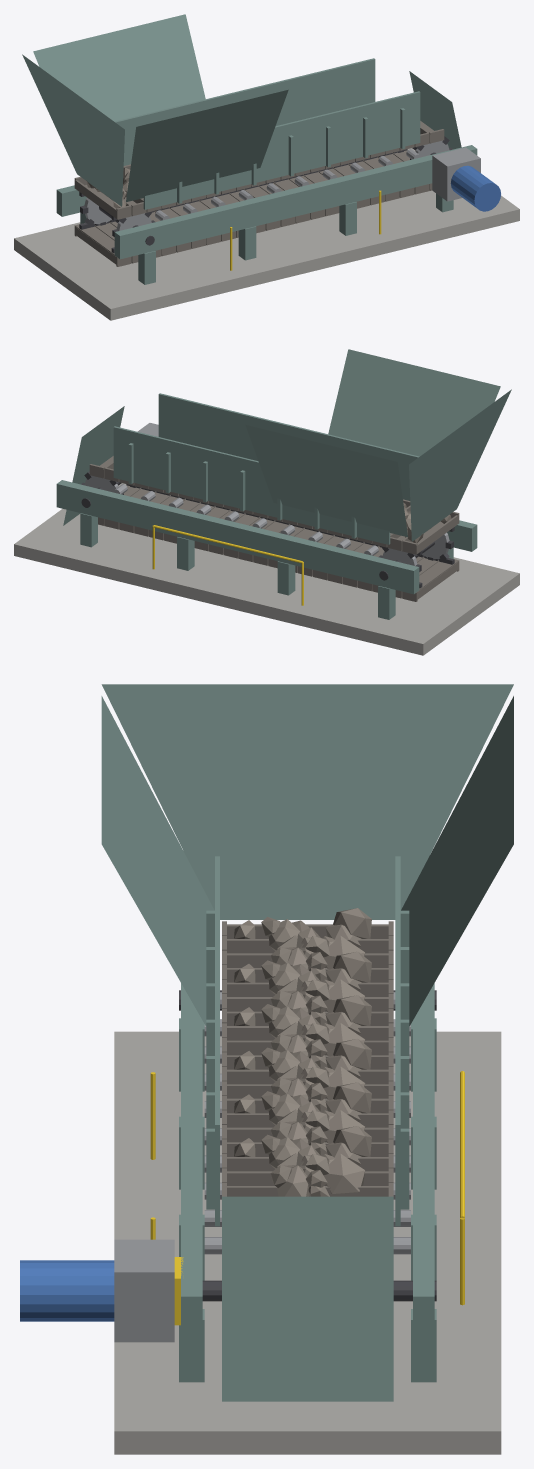
Rendered from EQ_ApronFeeder_8m.glb.
3 renders of one model, top to bottom at view 1: azimuth 30°, elevation 25°; view 2: azimuth 150°, elevation 25°; view 3: azimuth 270°, elevation 25°, orthographic. The views are drawn at different scales.
Parts seen in each view (by area): view 1: AF_Frame, AF_Pans_Bottom, AF_Pans_Top, AF_Sprocket_Tail, AF_Sprocket_Head; view 2: AF_Frame, AF_Pans_Bottom, AF_Pans_Top, AF_Sprocket_Tail, AF_Sprocket_Head; view 3: AF_Frame, AF_Ore, AF_Pans_Top, AF_Sprocket_Head.
Boxes of the visible parts, x1=… form: AF_Frame: x1=14, y1=14, x2=519, y2=320; AF_Pans_Bottom: x1=74, y1=149, x2=432, y2=266; AF_Pans_Top: x1=74, y1=121, x2=444, y2=220; AF_Sprocket_Tail: x1=80, y1=197, x2=155, y2=245; AF_Sprocket_Head: x1=398, y1=136, x2=452, y2=159; AF_Frame: x1=14, y1=349, x2=519, y2=655; AF_Pans_Bottom: x1=98, y1=484, x2=459, y2=601; AF_Pans_Top: x1=89, y1=456, x2=459, y2=555; AF_Sprocket_Tail: x1=378, y1=532, x2=453, y2=580; AF_Sprocket_Head: x1=81, y1=471, x2=135, y2=507; AF_Frame: x1=20, y1=684, x2=513, y2=1454; AF_Ore: x1=234, y1=908, x2=371, y2=1196; AF_Pans_Top: x1=222, y1=921, x2=393, y2=1196; AF_Sprocket_Head: x1=202, y1=1280, x2=436, y2=1301.
Size of the model in its own units: 11 by 4.9 by 5.75.
